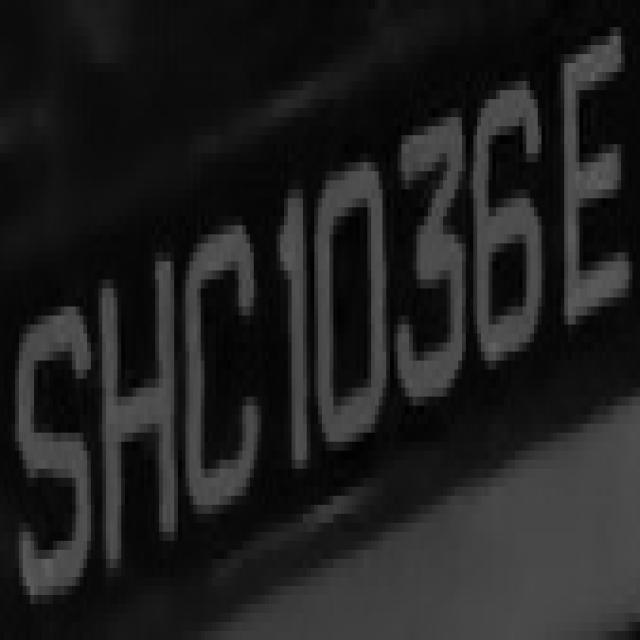0: (311, 153, 390, 460)
1: (265, 198, 318, 496)
3: (390, 135, 481, 433)
6: (470, 90, 545, 388)
C: (193, 225, 269, 550)
E: (553, 9, 632, 334)
H: (94, 270, 186, 577)
S: (19, 315, 95, 613)
